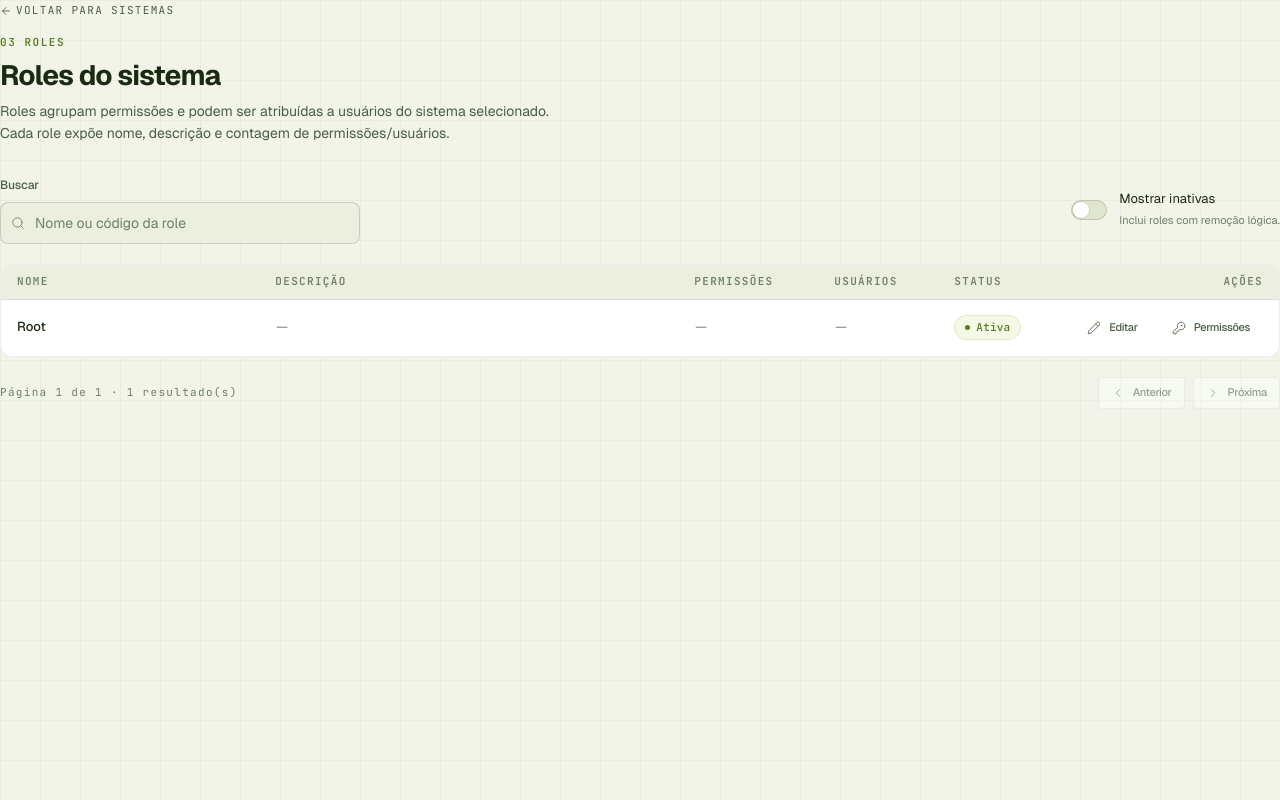
it: RolesPage — edição (Issue #68) › abertura e pré-preenchimento do modal › aceita role sem description (description=null vira string vazia)
Click the button "Editar" at (1112, 328), box [1074,312,1151,344]
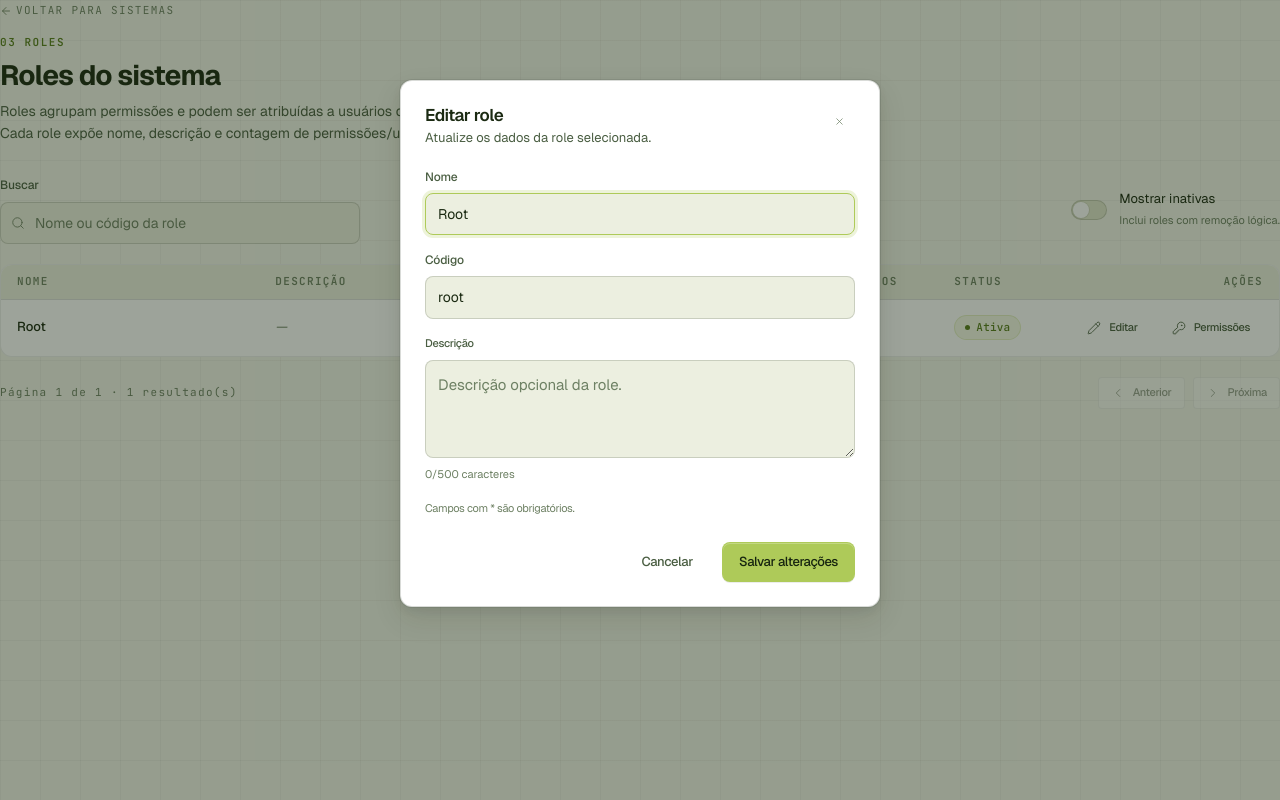
Now the form with test id "edit-role-form" is shown, box [425,168,855,582]
Now the text box with test id "edit-role-description" is empty, box [425,360,855,458]
